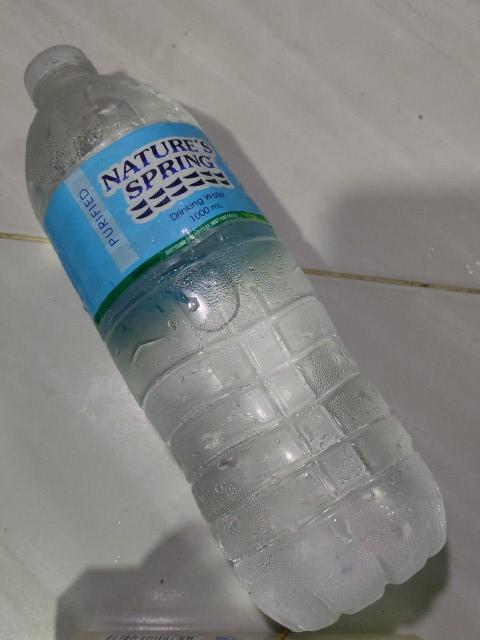Bottled Water: (21, 40, 450, 636)
